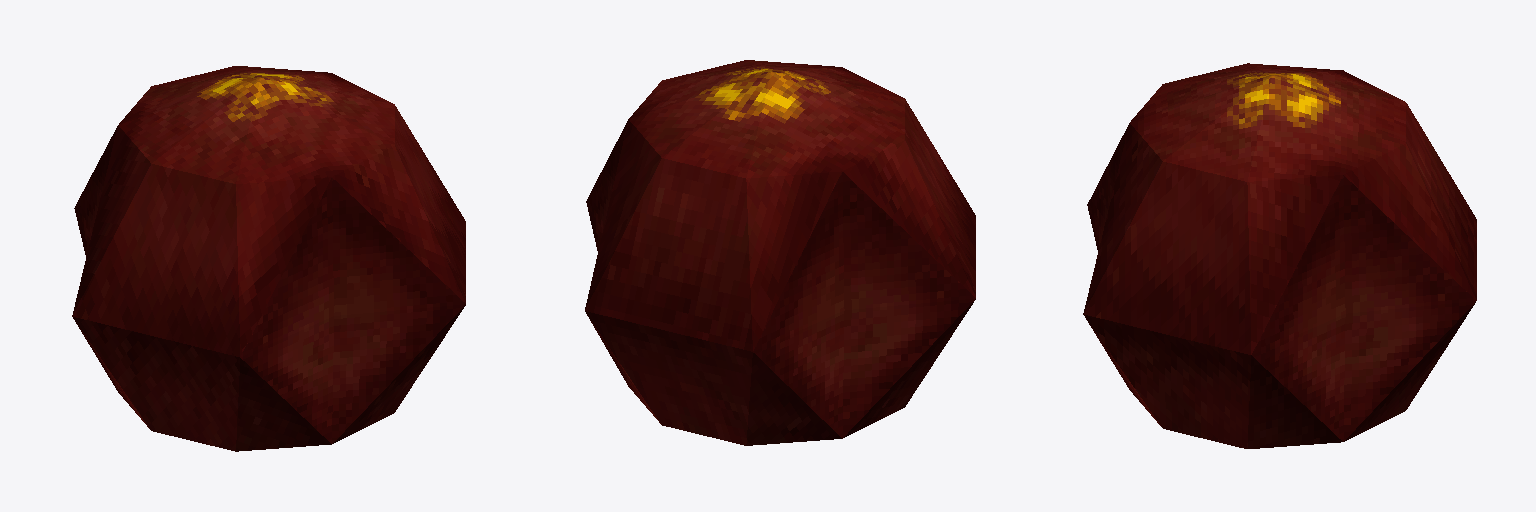
3 renders of one model, left to right at view 1: azimuth 30°, elevation 25°; view 2: azimuth 150°, elevation 25°; view 3: azimuth 270°, elevation 25°, orthographic.
Bounding box in the file's own units: 50.11 × 44.12 × 43.53.
Materials: 1 (1 with a texture image).